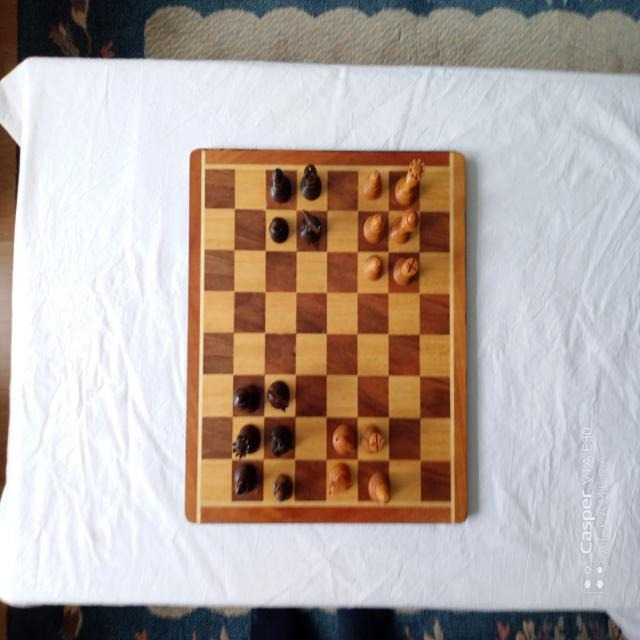black-bishop: (268, 168, 292, 203), (233, 463, 258, 496)
black-king: (233, 383, 260, 412)
black-knight: (299, 209, 321, 243), (267, 380, 290, 411)
black-pawn: (273, 473, 293, 502), (269, 216, 289, 243)
black-queen: (231, 424, 261, 460)
black-rook: (299, 163, 322, 201), (271, 425, 291, 457)
white-bishop: (368, 471, 391, 504), (363, 212, 385, 244)
white-king: (389, 209, 420, 243)
white-knight: (327, 461, 352, 494), (332, 424, 357, 456)
white-pawn: (362, 170, 382, 200), (364, 254, 383, 282)
white-queen: (394, 157, 425, 207)
white-rook: (359, 422, 384, 453), (393, 257, 419, 285)
